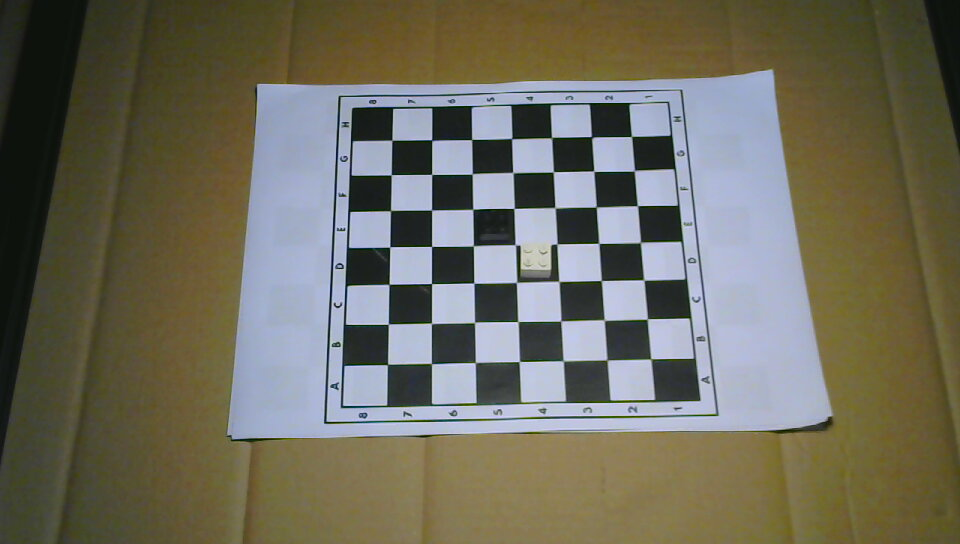bp: (478, 209, 511, 242)
wp: (519, 242, 552, 279)
